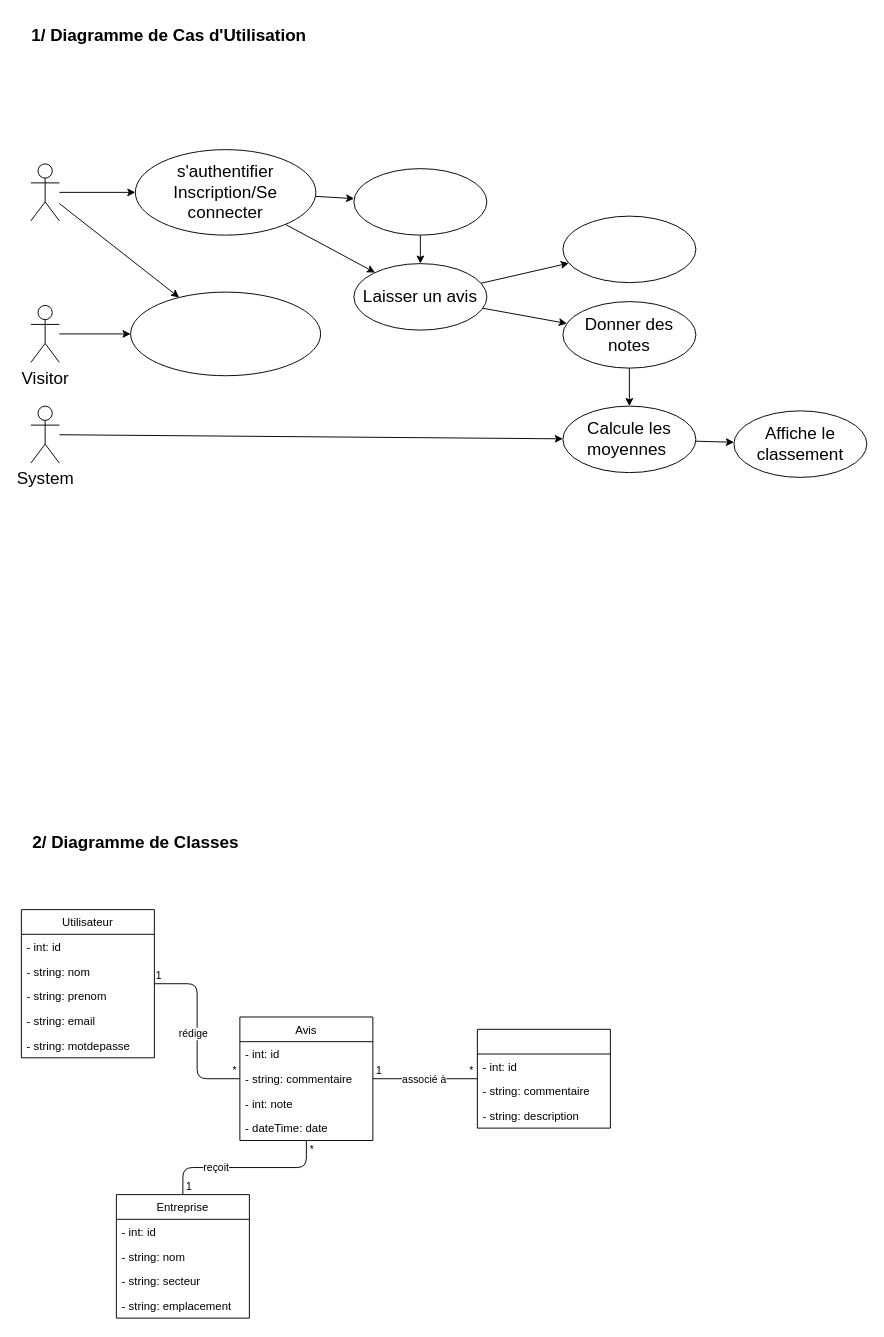
Some shapes in this 884 by 1337 pixel diagram are drawn without their labels. The box of each missing label's shape, as (x1, y1, x2, y2) in pixels:
Critère: (476, 1028, 610, 1128)
Créer fiche entreprise: (353, 168, 487, 235)
Ecrire un commentaire: (562, 215, 696, 283)
Rechercher et Consulter entreprise: (130, 291, 321, 376)
User: (30, 163, 59, 221)
